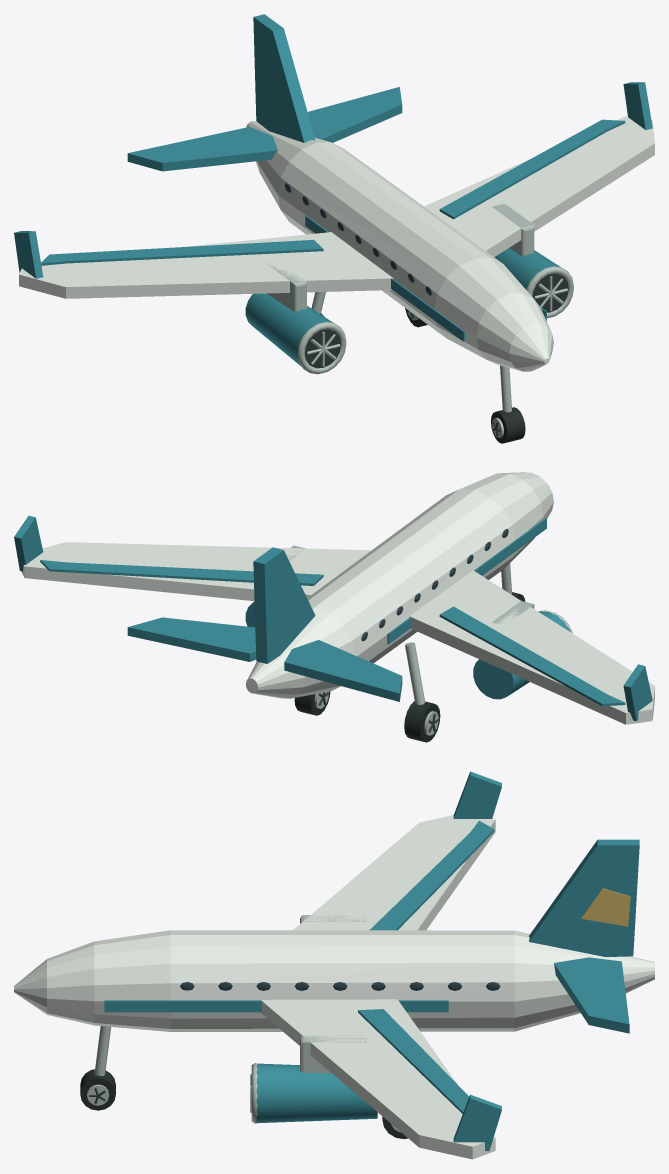
File: airplane.glb
The picture shows the model from 3 angles, top to bottom: view 1: azimuth 30°, elevation 25°; view 2: azimuth 150°, elevation 25°; view 3: azimuth 270°, elevation 25°; orthographic projection. The views are drawn at different scales.
Parts seen in each view (by area): view 1: fuselage_ivory, wings_ivory, tailplanes_teal, wing_stripe_teal, tail_fin_teal, engines_teal, winglets_teal, engine_pylons_chrome, engine_intakes_chrome, engine_intakes_dark, livery_teal, wheels_rubber (+2 smaller); view 2: fuselage_ivory, wings_ivory, tailplanes_teal, wing_stripe_teal, tail_fin_teal, winglets_teal, engines_teal, wheels_rubber, livery_teal, landing_gear_chrome, cabin_windows_glass, engine_pylons_chrome; view 3: fuselage_ivory, wings_ivory, tail_fin_teal, wing_stripe_teal, engines_teal, tailplanes_teal, winglets_teal, livery_teal, tail_emblem_gold, engine_pylons_chrome, wheels_rubber, cabin_windows_glass (+1 smaller).
Boxes of the visible parts, left/top/right/bottom form: fuselage_ivory: left=246, top=121, right=553, bottom=371; wings_ivory: left=19, top=116, right=654, bottom=298; tailplanes_teal: left=127, top=87, right=402, bottom=171; wing_stripe_teal: left=41, top=119, right=625, bottom=265; tail_fin_teal: left=253, top=14, right=315, bottom=142; engines_teal: left=245, top=248, right=560, bottom=366; winglets_teal: left=14, top=82, right=652, bottom=278; engine_pylons_chrome: left=265, top=203, right=534, bottom=311; engine_intakes_chrome: left=297, top=266, right=573, bottom=374; engine_intakes_dark: left=304, top=273, right=568, bottom=368; livery_teal: left=305, top=215, right=546, bottom=341; wheels_rubber: left=320, top=308, right=525, bottom=443; fuselage_ivory: left=246, top=472, right=553, bottom=698; wings_ivory: left=21, top=542, right=654, bottom=724; tailplanes_teal: left=127, top=617, right=402, bottom=701; wing_stripe_teal: left=40, top=560, right=625, bottom=706; tail_fin_teal: left=253, top=547, right=315, bottom=663; winglets_teal: left=14, top=515, right=652, bottom=721; engines_teal: left=245, top=601, right=570, bottom=699; wheels_rubber: left=294, top=592, right=525, bottom=742; livery_teal: left=387, top=518, right=546, bottom=644; landing_gear_chrome: left=405, top=563, right=511, bottom=705; cabin_windows_glass: left=361, top=529, right=508, bottom=641; engine_pylons_chrome: left=286, top=545, right=534, bottom=623; fuselage_ivory: left=14, top=930, right=654, bottom=1031; wings_ivory: left=261, top=815, right=495, bottom=1159; tail_fin_teal: left=529, top=839, right=639, bottom=956; wing_stripe_teal: left=358, top=820, right=494, bottom=1113; engines_teal: left=256, top=1063, right=377, bottom=1123; tailplanes_teal: left=554, top=957, right=629, bottom=1033; winglets_teal: left=453, top=771, right=501, bottom=1151; livery_teal: left=104, top=1000, right=448, bottom=1012; tail_emblem_gold: left=581, top=888, right=630, bottom=926; engine_pylons_chrome: left=300, top=915, right=366, bottom=1073; wheels_rubber: left=80, top=1069, right=407, bottom=1138; cabin_windows_glass: left=180, top=981, right=500, bottom=990.
Size of the model in its own units: 2.4 by 0.8769 by 1.93.
